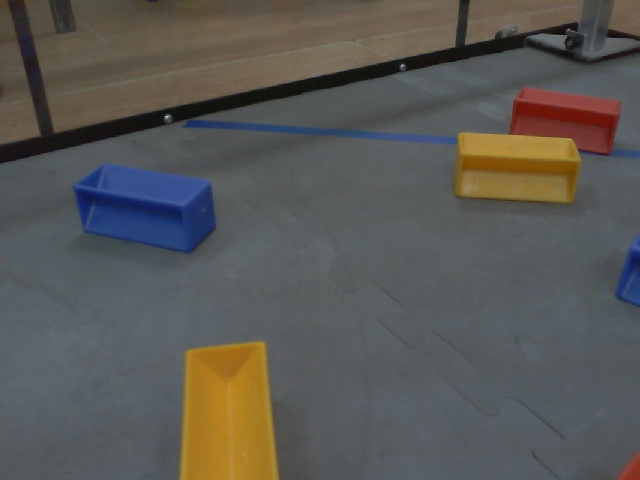BlueSample: (68, 157, 217, 254)
RedSample: (503, 83, 624, 159)
YellowSample: (172, 339, 285, 480), (450, 129, 586, 208)
